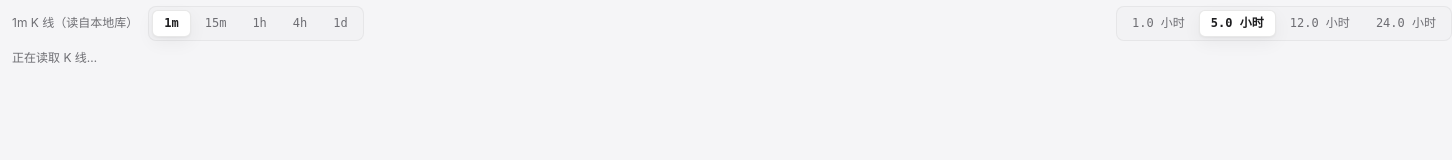
Test: PriceChart 周期切换 › 上游 1m 有缺口导致该周期一个桶都没有时，说明原因而不是空白图
Click the button titled "切换到 4h" at (300, 23), box [281,10,319,37]
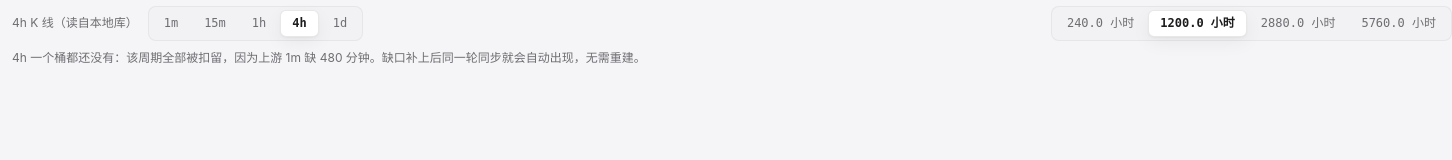
Now the text "上游 1m 缺" is shown, box [12,50,646,65]
Now the text "自动出现" is shown, box [12,50,646,65]
